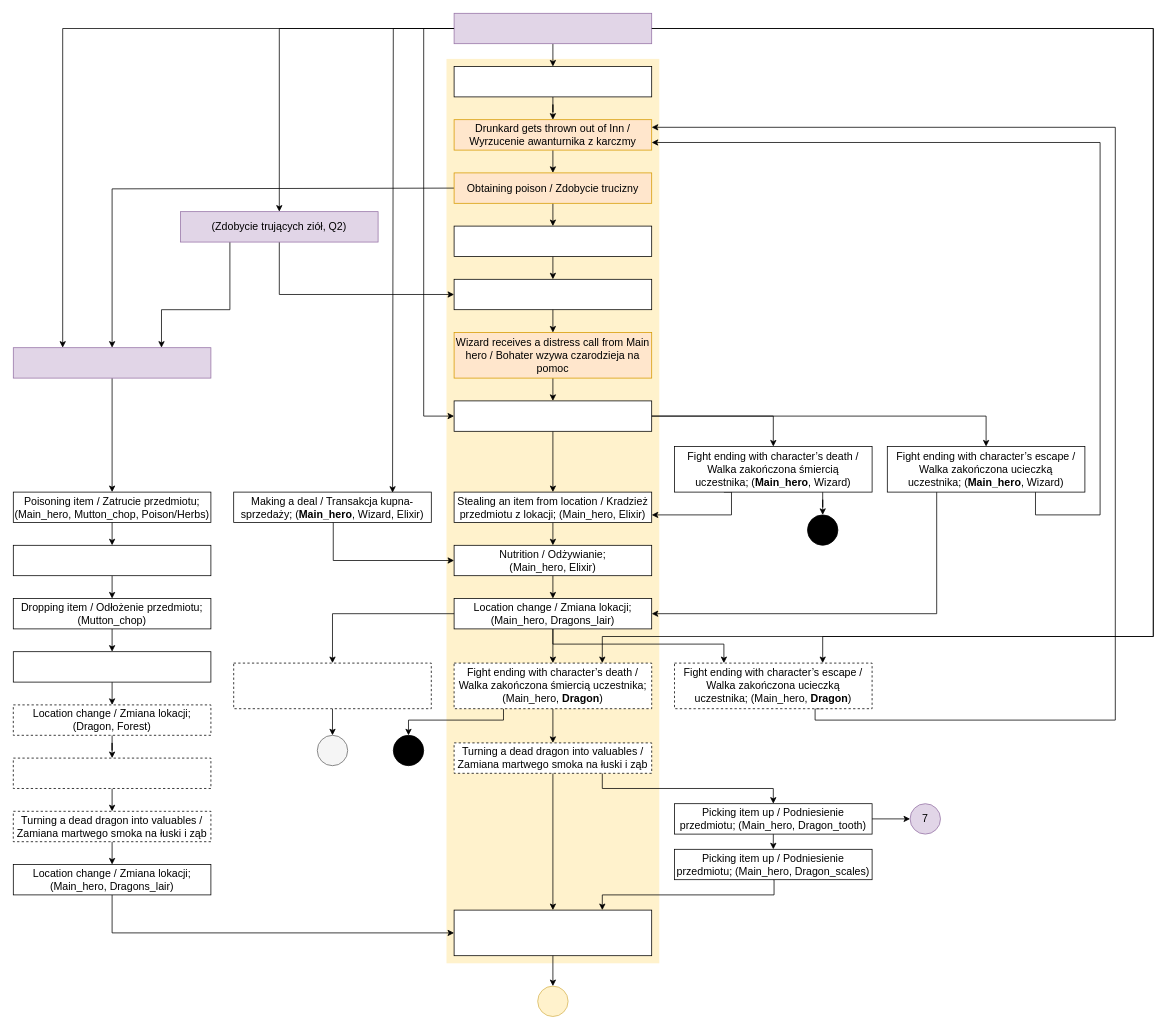
Image size: 1173x1030. Some labels were removed from this diagram. Here are the shapes that lost their labels. From the top down, the centre of each, then its label:
At pixel 552 28: "(Poznanie sekretu smoczego jaja, Q5)".
At pixel 552 81: "Location change / Zmiana lokacji; (Main_hero, Inn)".
At pixel 552 240: "Location change / Zmiana lokacji; (Main_hero, Village)".
At pixel 552 294: "Poisoning item / Zatrucie przedmiotu; ( Main_hero, Poison/Herbs,Well)".
At pixel 112 362: "(Zdobycie baraniny, Q8)".
At pixel 552 415: "Location change / Zmiana lokacji; (Main_hero, Wizards_hut)".
At pixel 112 560: "Location change / Zmiana lokacji; (Main_hero, Forest)".
At pixel 112 666: "Location change / Zmiana lokacji; (Main_hero, Road)".
At pixel 332 685: "Character’s arrest / Aresztowanie bohatera; (Main_hero, Wizard/Lawyer/Guard )".
At pixel 112 772: "Nutrition with poison / Spożycie trucizny; (Dragon, Mutton_chop)".
At pixel 552 932: "Picking item up / Podniesienie przedmiotu; ( Main_hero, Dragon_egg)".
